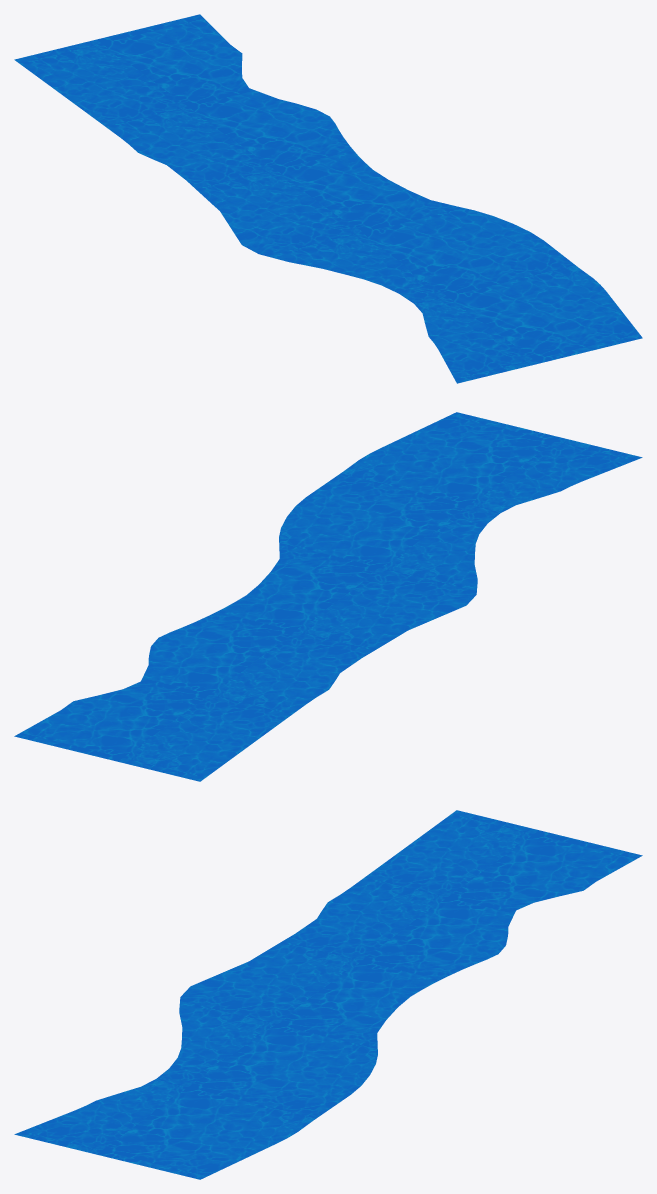
File: River6.glb
3 views of the same model, one above another, from view 1: azimuth 30°, elevation 25°; view 2: azimuth 150°, elevation 25°; view 3: azimuth 330°, elevation 25° (orthographic).
Parts seen in each view (by area): view 1: River6; view 2: River6; view 3: River6.
Part boxes in pixels (bbox=[...]): River6: bbox=[14, 14, 642, 383]; River6: bbox=[14, 412, 642, 781]; River6: bbox=[14, 810, 642, 1179].
Size of the model in its own units: 1.52 by 0 by 5.04.
Materials: 1 (1 with a texture image).
